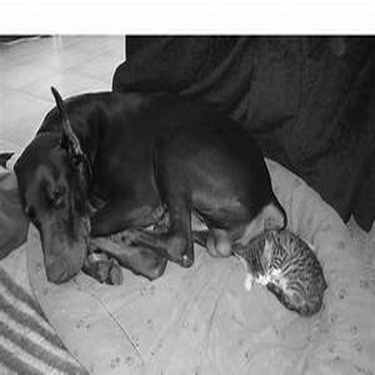cat: (216, 223, 330, 320)
dog: (18, 79, 306, 293)
